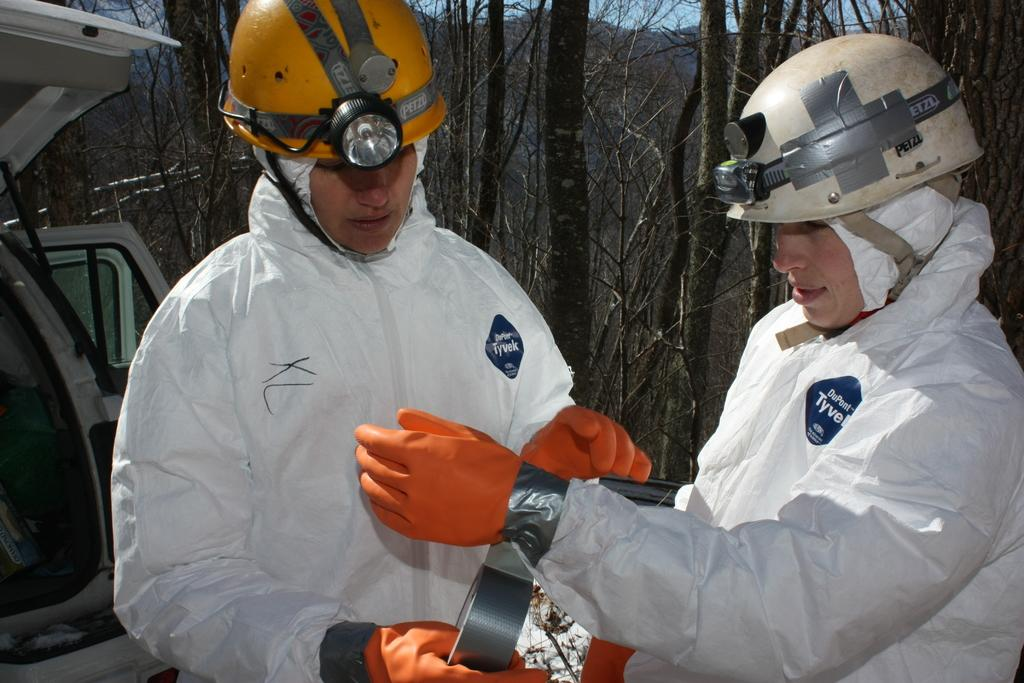helmet: (726, 33, 985, 325), (222, 0, 447, 250)
